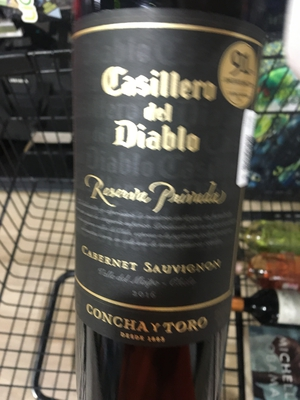casillero del diablo reserva privada cabernet sauvignon: (69, 6, 269, 400)
